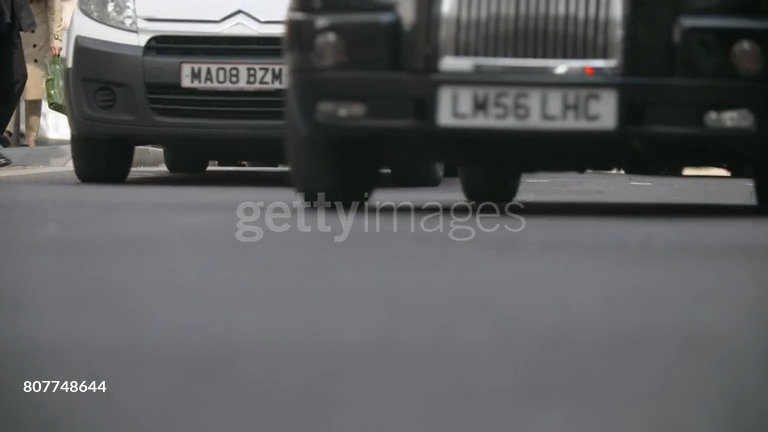car number: (439, 86, 617, 128), (181, 62, 288, 89)
